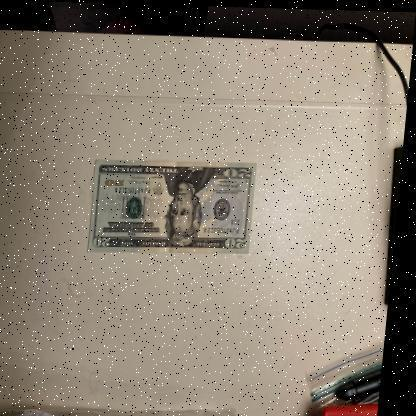twenty-front: (90, 158, 259, 256)
